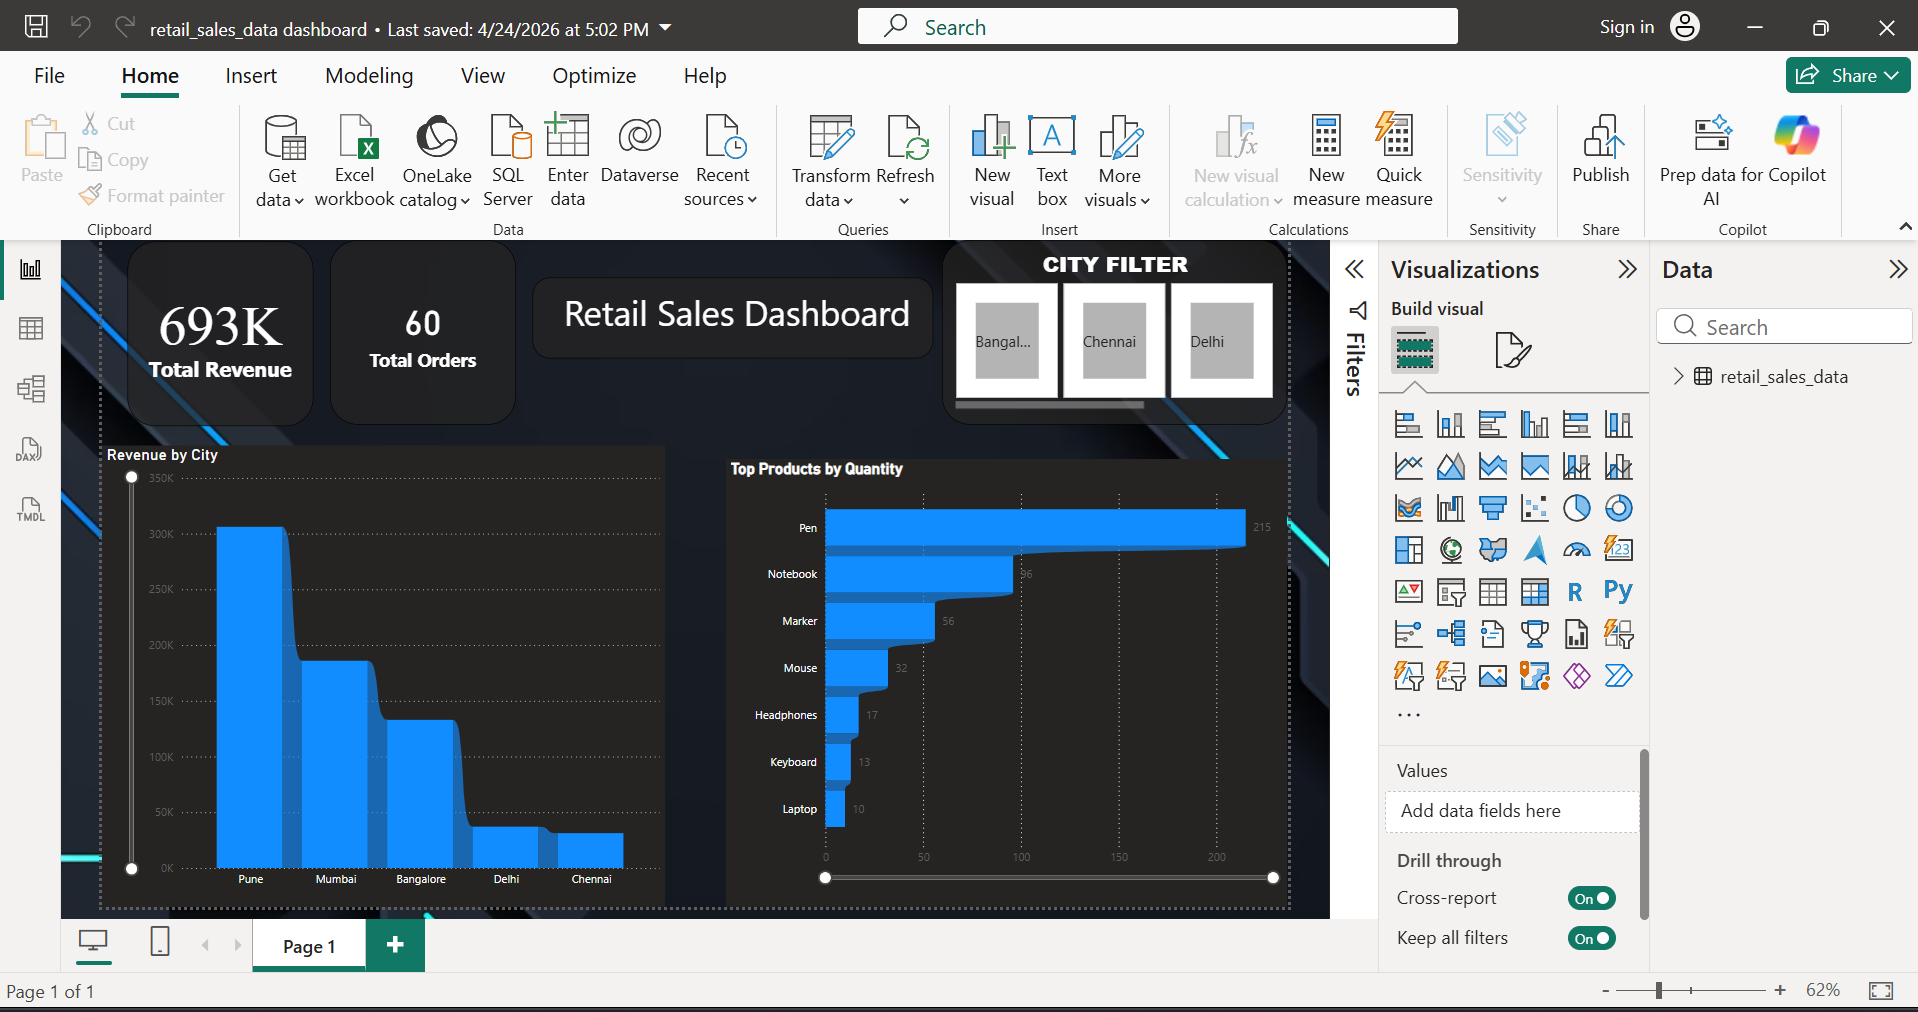

What the dashboard file says about the page in this screenshot:
{"tool":"powerbi","page":{"name":"Page 1","canvas":[1280,720],"ordinal":0},"visuals":[{"type":"card","fields":{"Values":["retail_sales_data.Revenue"]},"box":[27.5,1.6,200.8,199.2],"z":0},{"type":"columnChart","title":"Revenue by City ","fields":{"Category":["retail_sales_data.CITY"],"Y":["retail_sales_data.Revenue"]},"box":[0,221.8,607.2,498.7],"z":1000},{"type":"barChart","title":"Top Products by Quantity","fields":{"Category":["retail_sales_data.PRODUCT_NAME"],"Y":["Sum(retail_sales_data.QUANTITY)"]},"box":[673.6,236.4,605.6,484.1],"z":2000},{"type":"advancedSlicerVisual","title":"CITY FILTER","fields":{"Values":["retail_sales_data.CITY"]},"box":[906.8,0,372.4,199.2],"z":3000},{"type":"textbox","box":[464.7,40.5,432.3,87.4],"z":4000},{"type":"card","fields":{"Values":["CountNonNull(retail_sales_data.ORDER_ID)"]},"box":[246.1,0,200.8,199.2],"z":5000}]}

Visuals, with their boxes on the page's 1280x720 design canvas (x1, y1, x2, y2). These are canvas units, not pixel positions in the 1918x1012 screenshot, which may show the page scaled, cropped or inside an application window:
card - retail_sales_data.Revenue: l=28, t=2, r=228, b=201
"Revenue by City " columnChart: l=0, t=222, r=607, b=720
"Top Products by Quantity" barChart: l=674, t=236, r=1279, b=720
"CITY FILTER" advancedSlicerVisual: l=907, t=0, r=1279, b=199
textbox: l=465, t=40, r=897, b=128
card - CountNonNull(retail_sales_data.ORDER_ID): l=246, t=0, r=447, b=199
